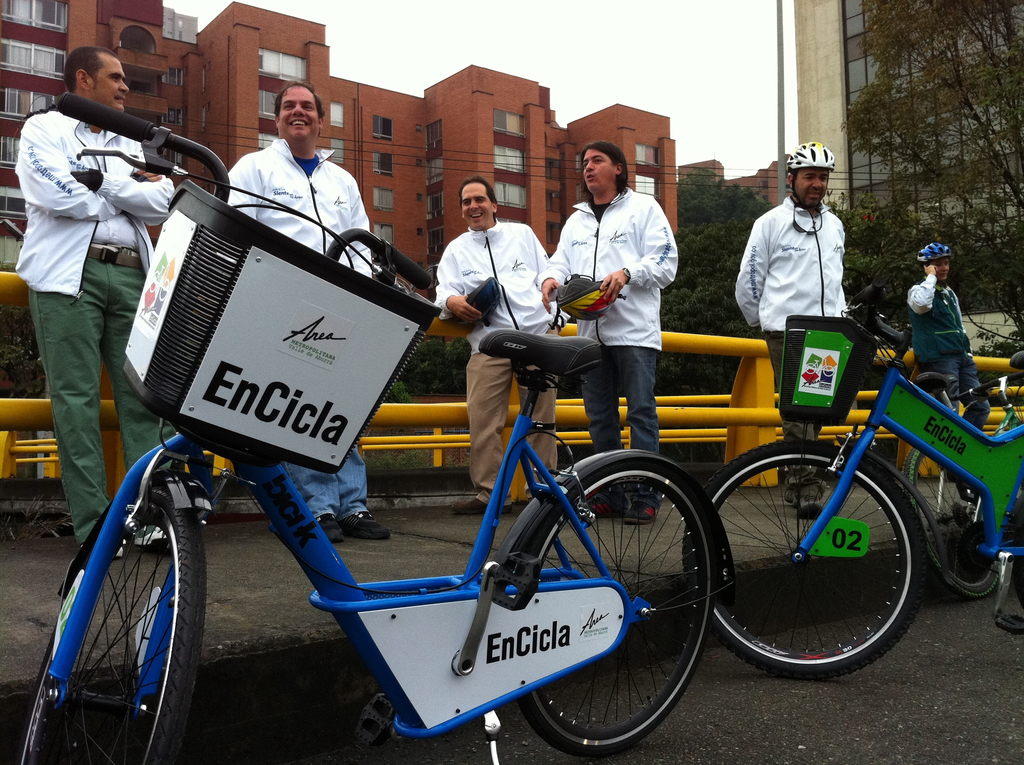Bike: (1, 109, 739, 757)
